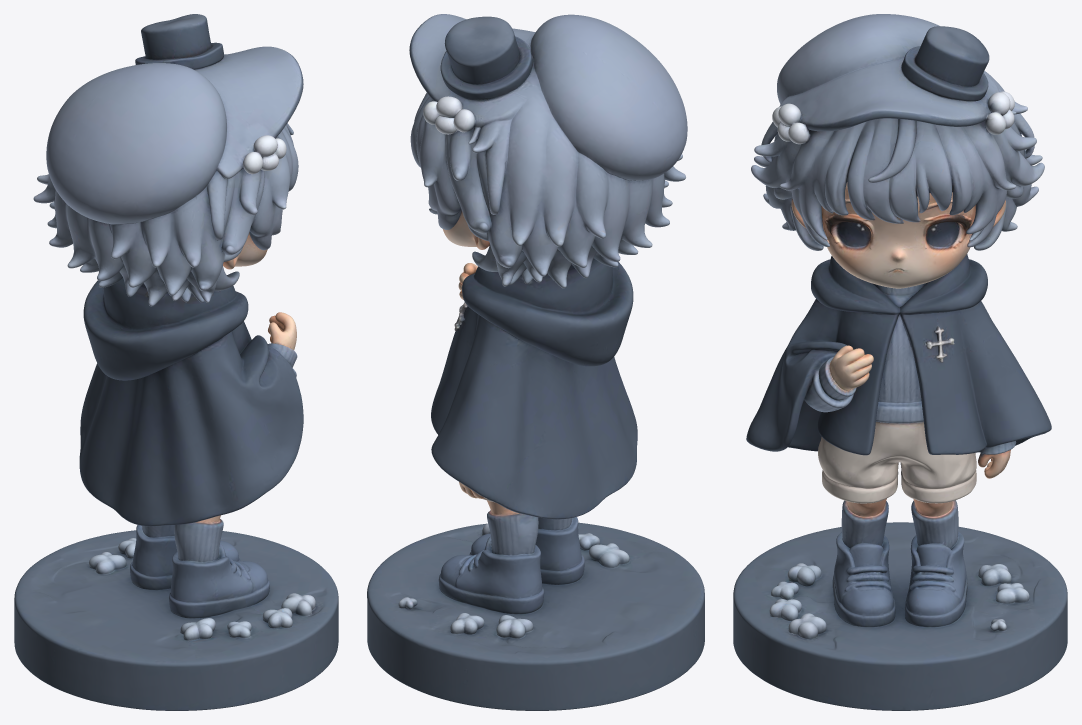
Rendered from inspiration-426.glb.
3 views of the same model, side by side, from view 1: azimuth 30°, elevation 25°; view 2: azimuth 150°, elevation 25°; view 3: azimuth 270°, elevation 25° (orthographic). The views are drawn at different scales.
Parts seen in each view (by area): view 1: tripo_node_838e1b27-3d14-486d-85bd-b92ca657765a; view 2: tripo_node_838e1b27-3d14-486d-85bd-b92ca657765a; view 3: tripo_node_838e1b27-3d14-486d-85bd-b92ca657765a.
Part boxes in pixels (bbox=[...]): tripo_node_838e1b27-3d14-486d-85bd-b92ca657765a: bbox=[14, 14, 338, 710]; tripo_node_838e1b27-3d14-486d-85bd-b92ca657765a: bbox=[367, 14, 704, 710]; tripo_node_838e1b27-3d14-486d-85bd-b92ca657765a: bbox=[733, 14, 1067, 710].
Size of the model in its own units: 0.4882 by 1 by 0.4881.
1 material, 1 textured.
